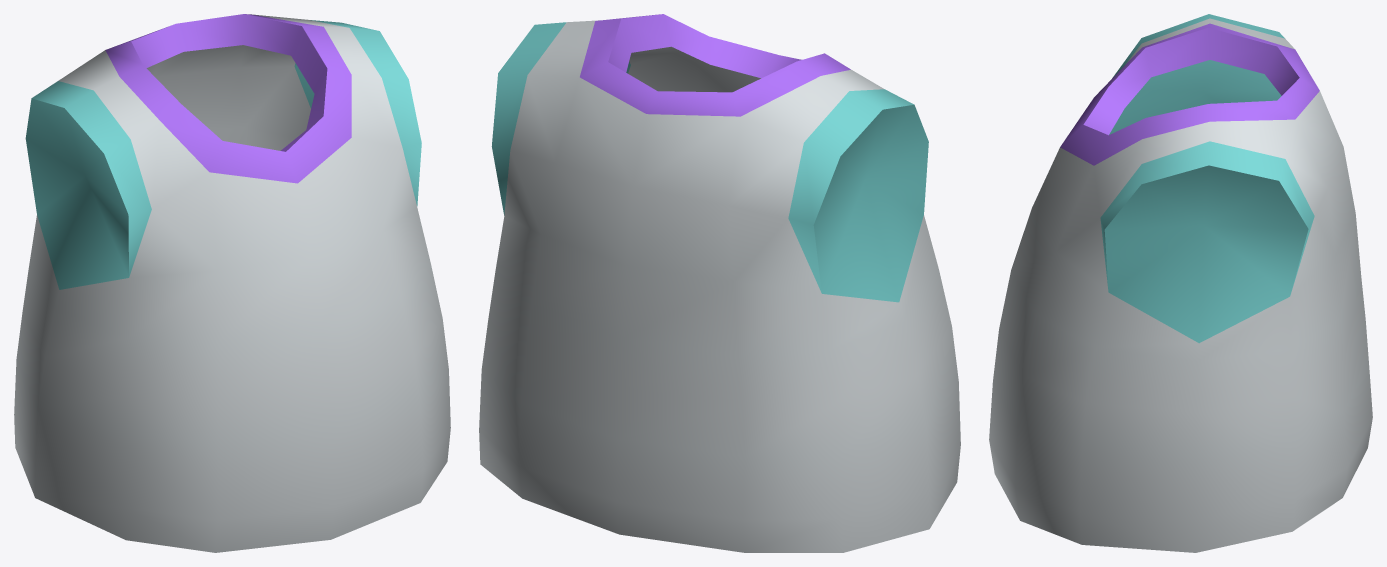
Rendered from Top_56.fbx.
3 views of the same model, side by side, from view 1: azimuth 30°, elevation 25°; view 2: azimuth 150°, elevation 25°; view 3: azimuth 270°, elevation 25° (orthographic). The views are drawn at different scales.
Parts seen in each view (by area): view 1: Top_56; view 2: Top_56; view 3: Top_56.
Boxes of the visible parts, bbox=[...] form: Top_56: bbox=[14, 14, 450, 552]; Top_56: bbox=[479, 14, 960, 552]; Top_56: bbox=[989, 14, 1372, 552].
Bounding box in the file's own units: 40.41 × 41.36 × 35.24.
